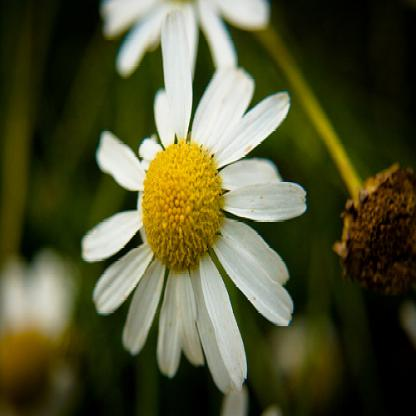ASTER: (54, 9, 325, 392)
